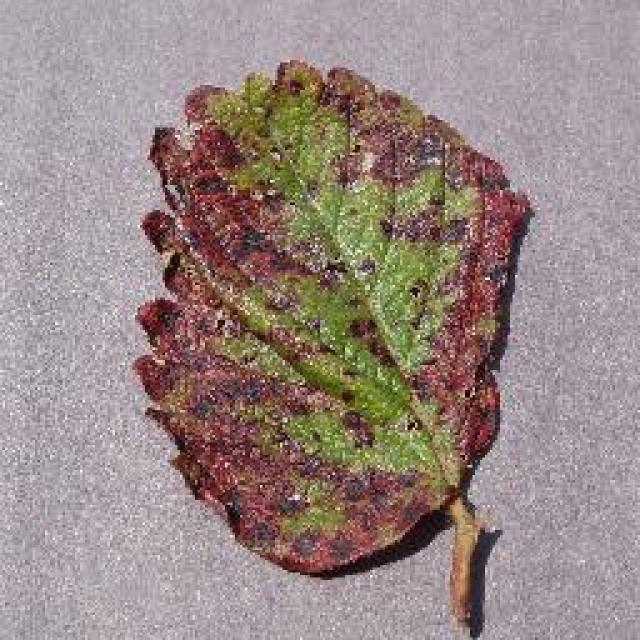Strawberry leaf scorch: (194, 120, 484, 530)
